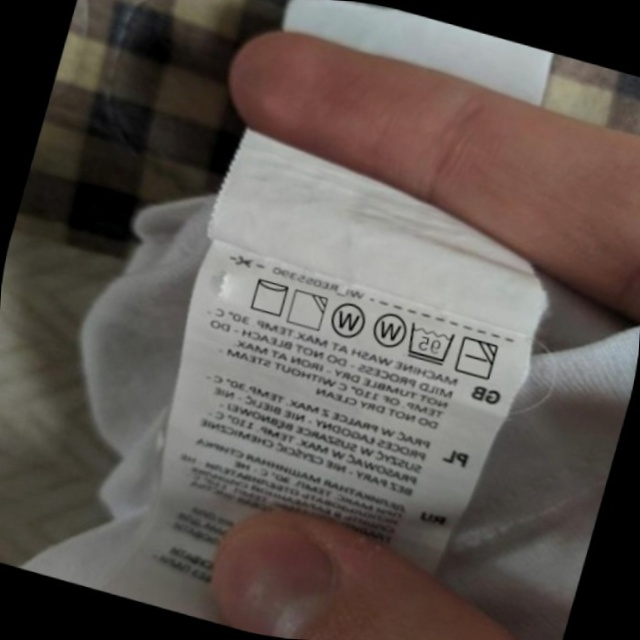95C: (399, 316, 461, 371)
dry_flat_in_shade: (450, 329, 504, 386)
line_dry: (242, 270, 296, 323)
shade_dry: (281, 283, 334, 336)
wet_clean: (364, 302, 414, 355), (323, 295, 373, 347)
